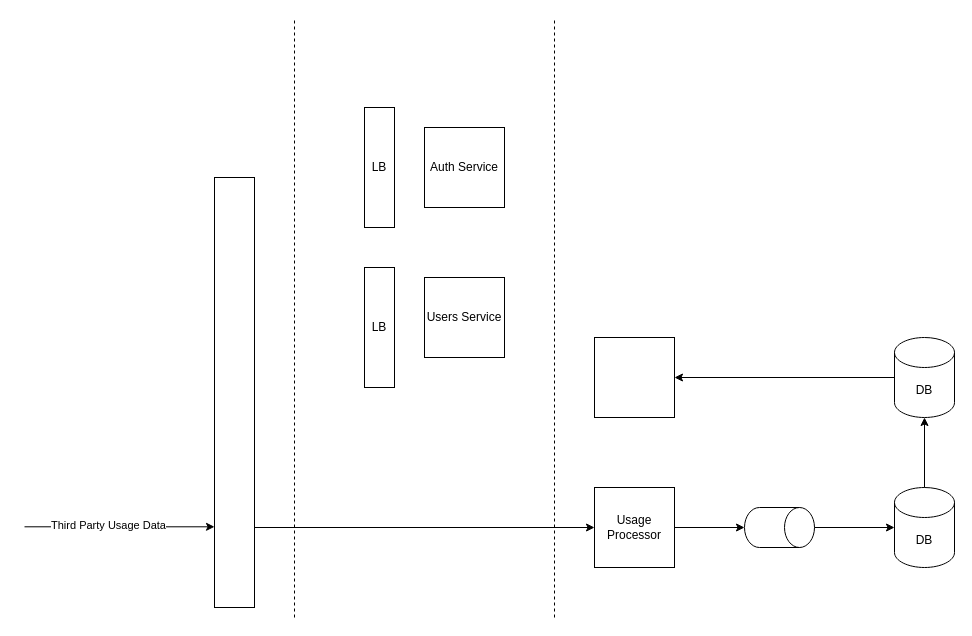
The diagram is 972 pixels wide and 636 high, and some of its shapes have lost their labels. The shapes that lost their labels are listed below. From the top down, each one's centre as x and y in pixels, then its label:
(234,392): Api Gateway
(634,377): Cycle Usage
